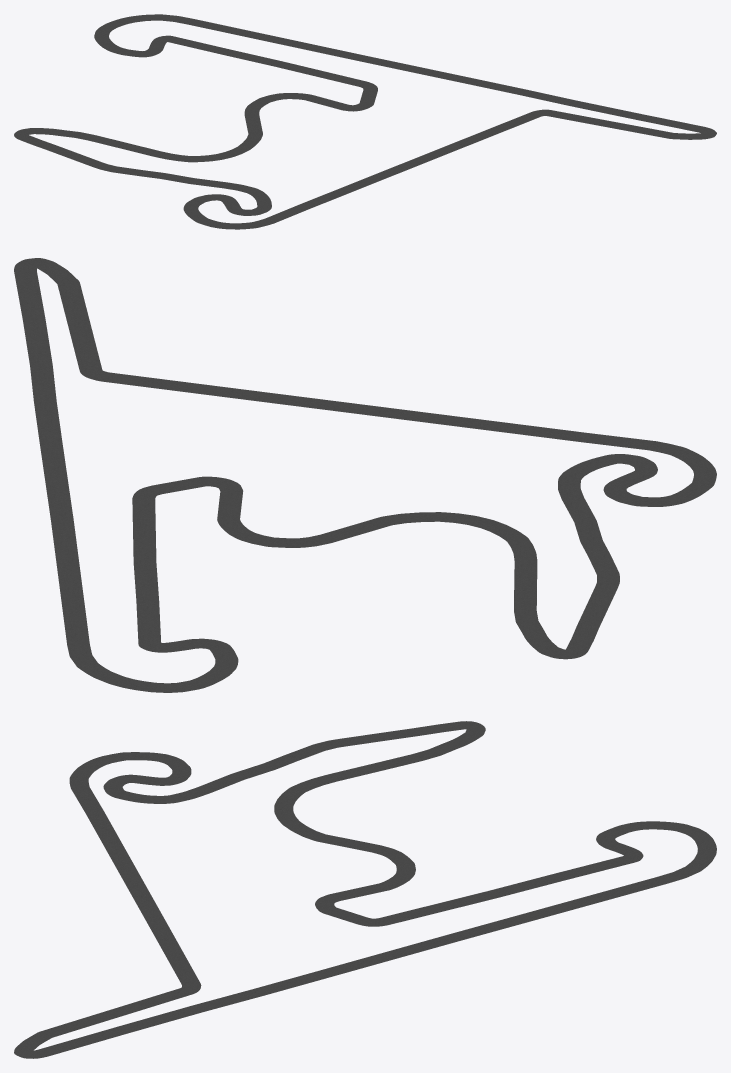
File: track.dae
3 views of the same model, one above another, from view 1: azimuth 30°, elevation 25°; view 2: azimuth 150°, elevation 25°; view 3: azimuth 270°, elevation 25° (orthographic). The views are drawn at different scales.
Visible parts, largest first — view 1: road-node; view 2: road-node; view 3: road-node.
Part boxes in pixels (<box>): road-node: <box>14,14,716,229</box>; road-node: <box>14,258,716,692</box>; road-node: <box>14,721,716,1058</box>.
Size of the model in its own units: 62.73 by 55.19 by 0.
Materials: 1 (1 with a texture image).
